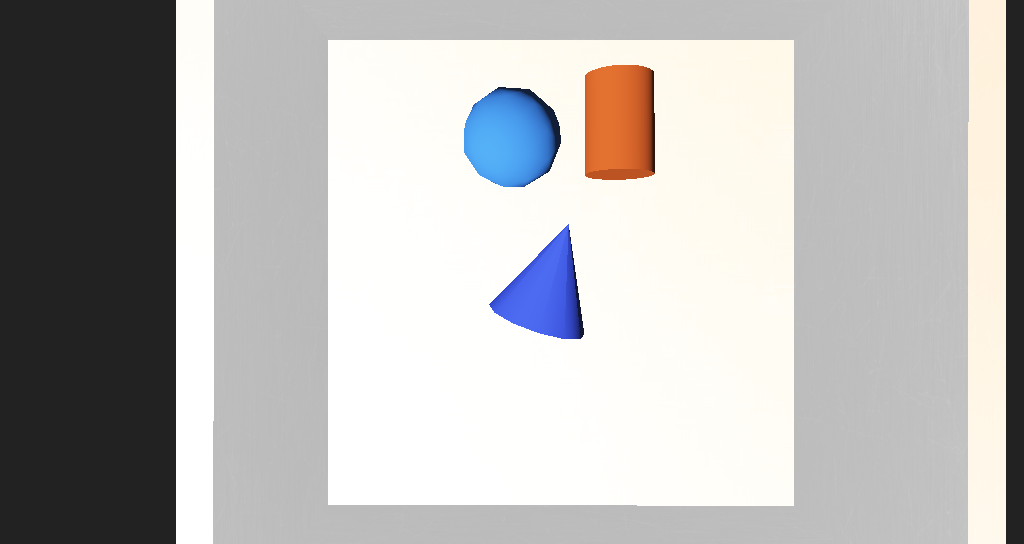cone: (522, 177, 569, 224)
cylinder: (458, 234, 539, 301)
sphere: (438, 188, 505, 231)
